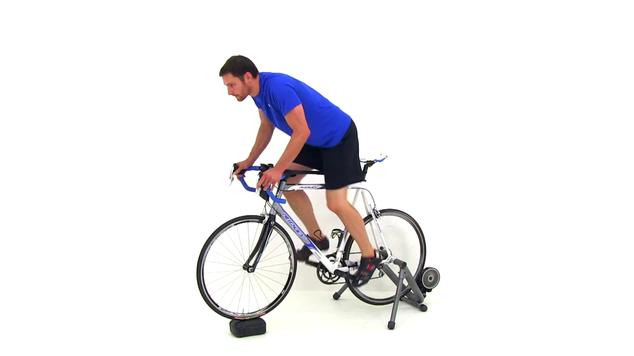crouch: (222, 46, 310, 194)
